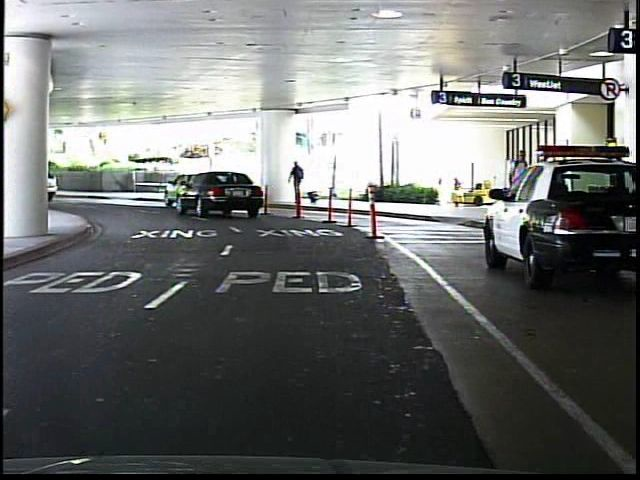person: (504, 145, 531, 228), (286, 160, 313, 209)
